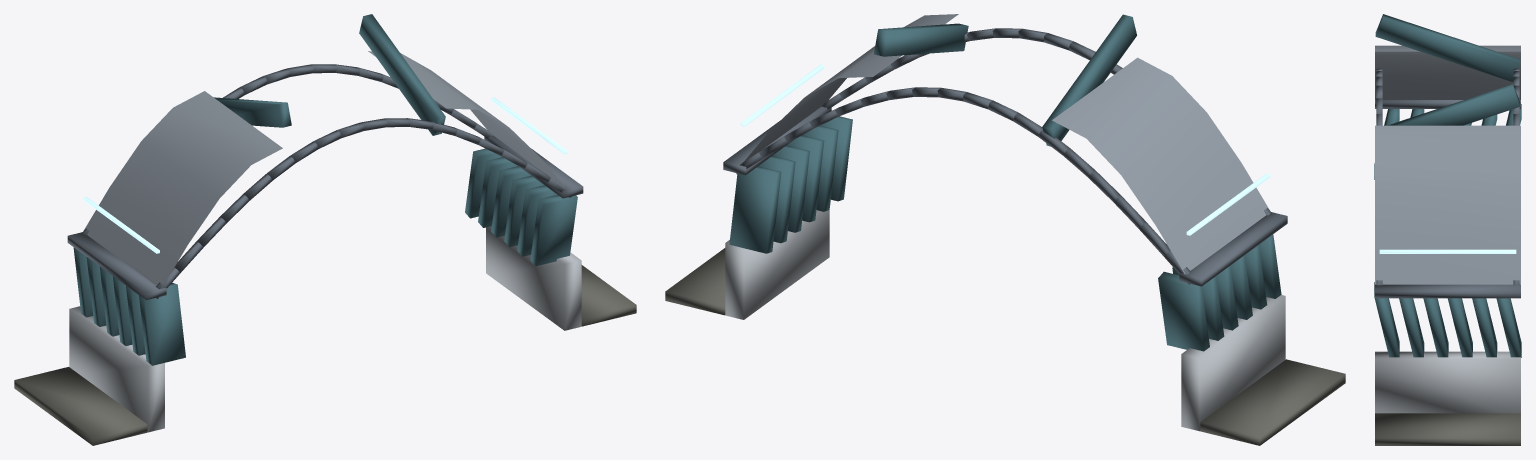
Rendered from acoustic_canopy_tunnel.glb.
3 views of the same model, side by side, from view 1: azimuth 30°, elevation 25°; view 2: azimuth 150°, elevation 25°; view 3: azimuth 270°, elevation 25° (orthographic). The views are drawn at different scales.
Parts seen in each view (by area): view 1: Surface_roof, Surface_fin, Surface_concrete, Surface_steel, Surface_gravel, Surface_led; view 2: Surface_roof, Surface_fin, Surface_concrete, Surface_steel, Surface_gravel, Surface_led; view 3: Surface_roof, Surface_fin, Surface_concrete, Surface_gravel, Surface_steel, Surface_led.
Boxes of the visible parts, x1,y1,x2,y2 form: Surface_roof: (84,51,567,289); Surface_fin: (73,14,577,365); Surface_concrete: (69,226,581,432); Surface_steel: (67,64,583,300); Surface_gravel: (14,265,636,445); Surface_led: (83,97,567,253); Surface_roof: (740,14,1269,274); Surface_fin: (729,14,1281,351); Surface_concrete: (725,210,1285,431); Surface_steel: (723,28,1287,286); Surface_gravel: (665,248,1345,445); Surface_led: (740,64,1270,235); Surface_roof: (1375,45,1520,284); Surface_fin: (1374,14,1521,357); Surface_concrete: (1375,351,1520,413); Surface_gravel: (1375,413,1520,445); Surface_steel: (1375,68,1520,298); Surface_led: (1379,249,1516,253).
Bounding box in the file's own units: 24 × 12.3 × 6.04.
